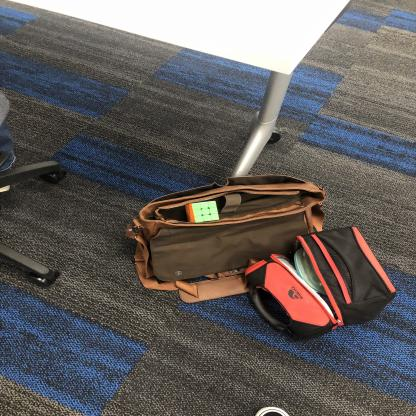SolvedCube: (184, 200, 226, 228)
